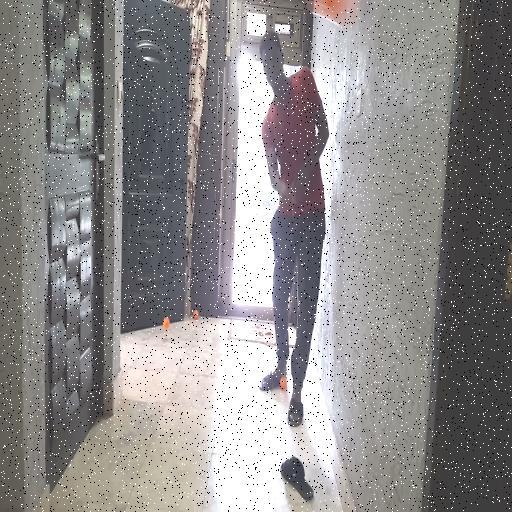plastic-ball: (302, 0, 352, 25)
